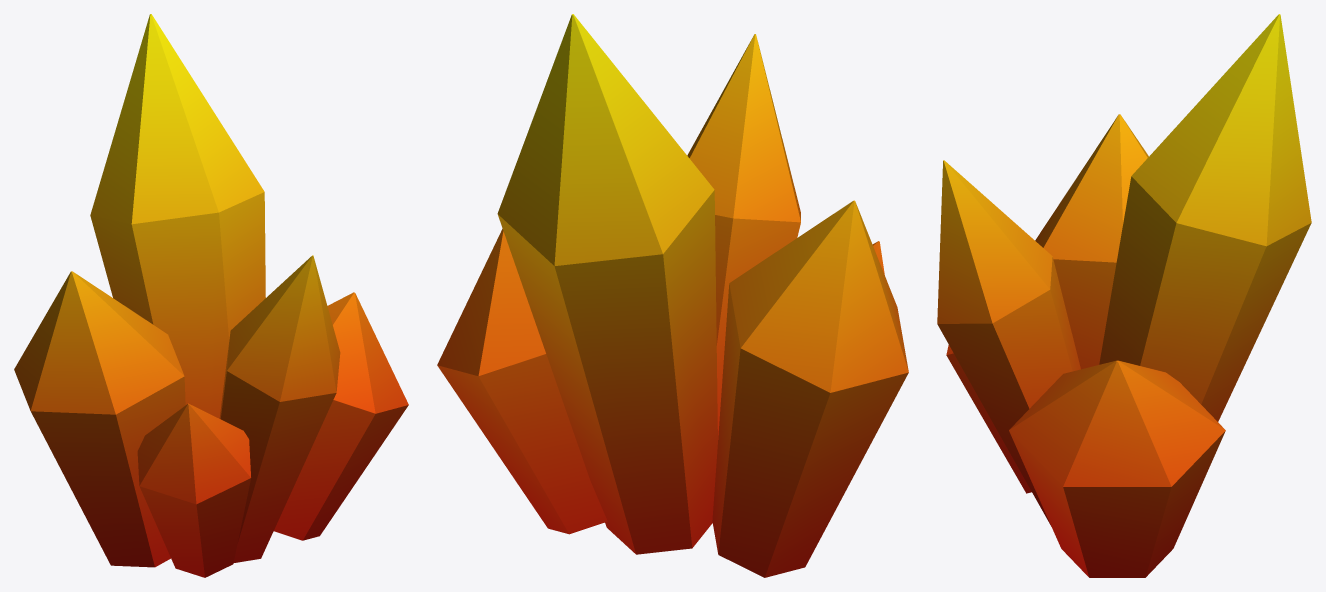
The model's file is CRYSTALS_orange_.fbx.
The picture shows the model from 3 angles, left to right: view 1: azimuth 30°, elevation 25°; view 2: azimuth 150°, elevation 25°; view 3: azimuth 270°, elevation 25°; orthographic projection. The views are drawn at different scales.
Visible parts, largest first — view 1: Sphere.008; view 2: Sphere.008; view 3: Sphere.008.
Part boxes in pixels (x1,y1,x2,y2): Sphere.008: (14,14,408,577); Sphere.008: (437,14,908,577); Sphere.008: (937,14,1311,577).
Bounding box in the file's own units: 519 × 670 × 437.
1 material, 1 textured.
